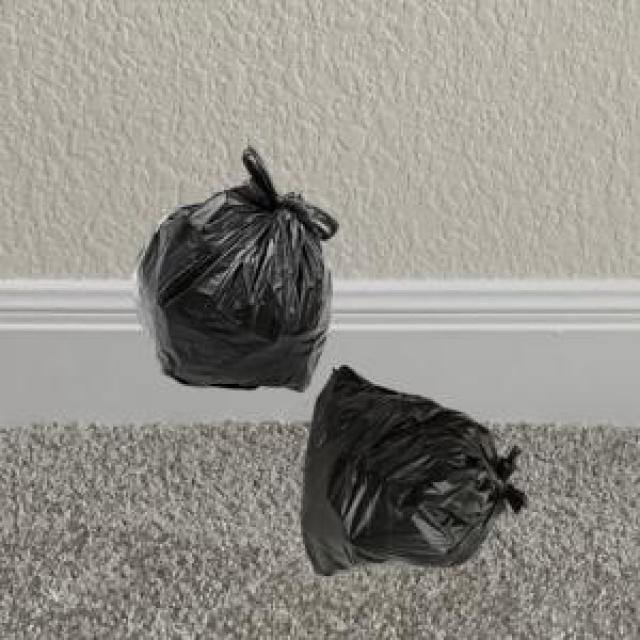Trashbag: (132, 142, 342, 395), (295, 360, 532, 580)
